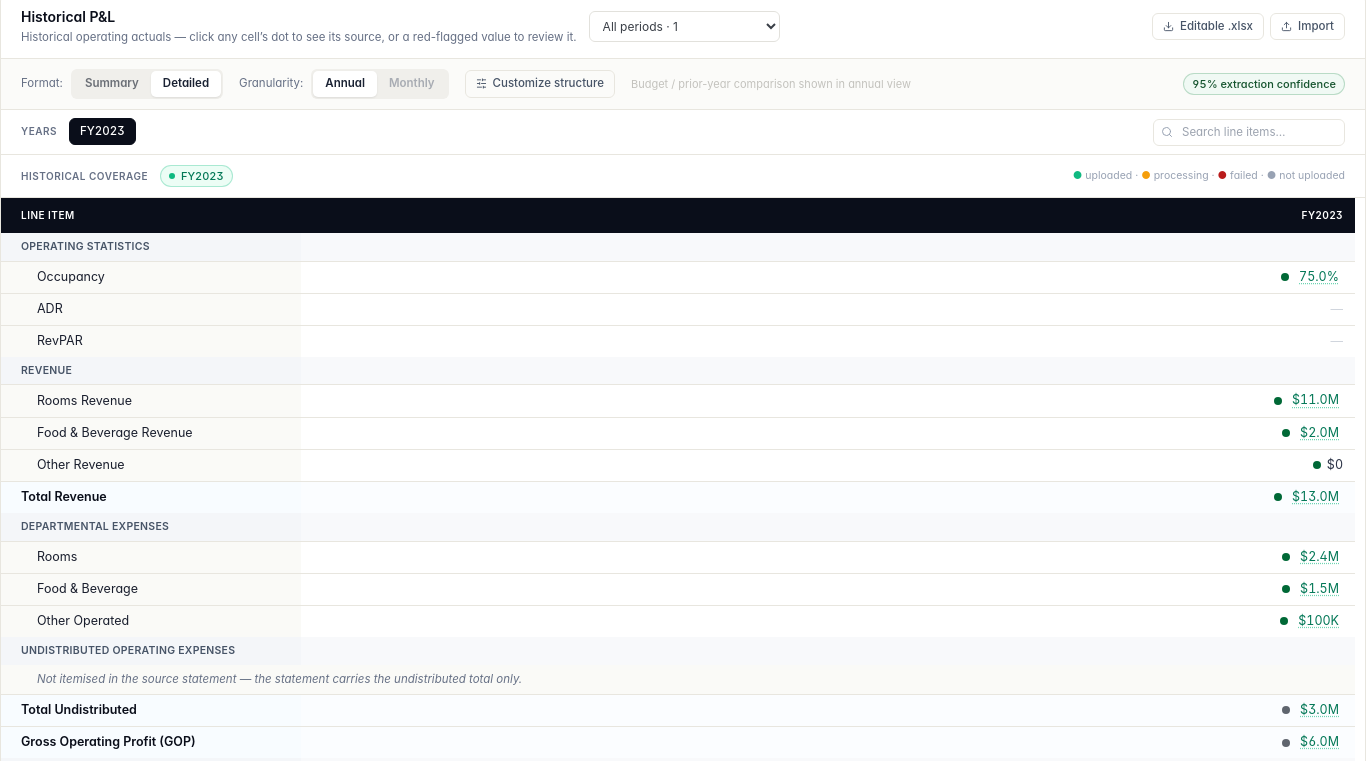
Historicals worksheet — a correction to a line with no derived total (E-012) › says no derived total re-sums from it, that GOP / NOI are stated, and that the model re-runs
Click the button named "Extracted — click to see its source". click: (1320, 557)
box: [1296,548,1343,566]
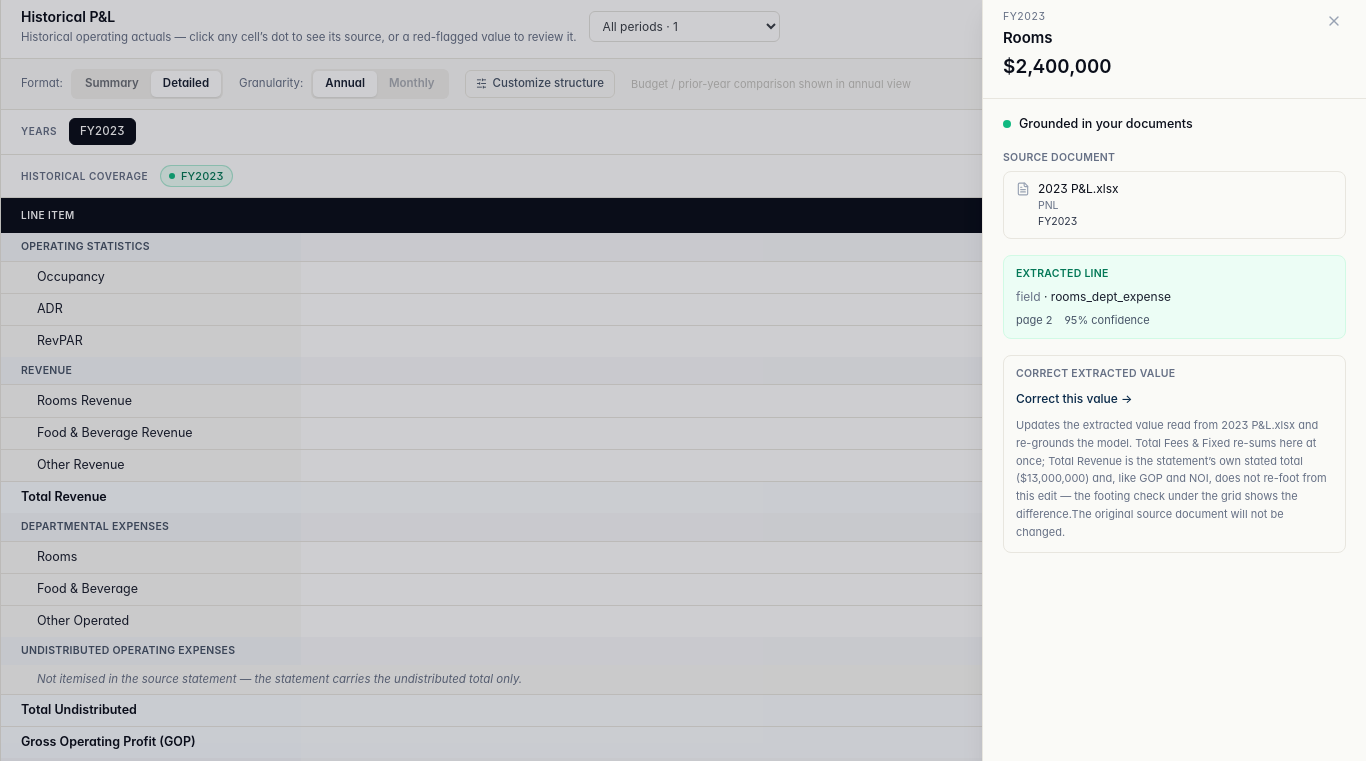
Click the button "Correct this value →". click: (1074, 399)
box: [1016,390,1132,408]
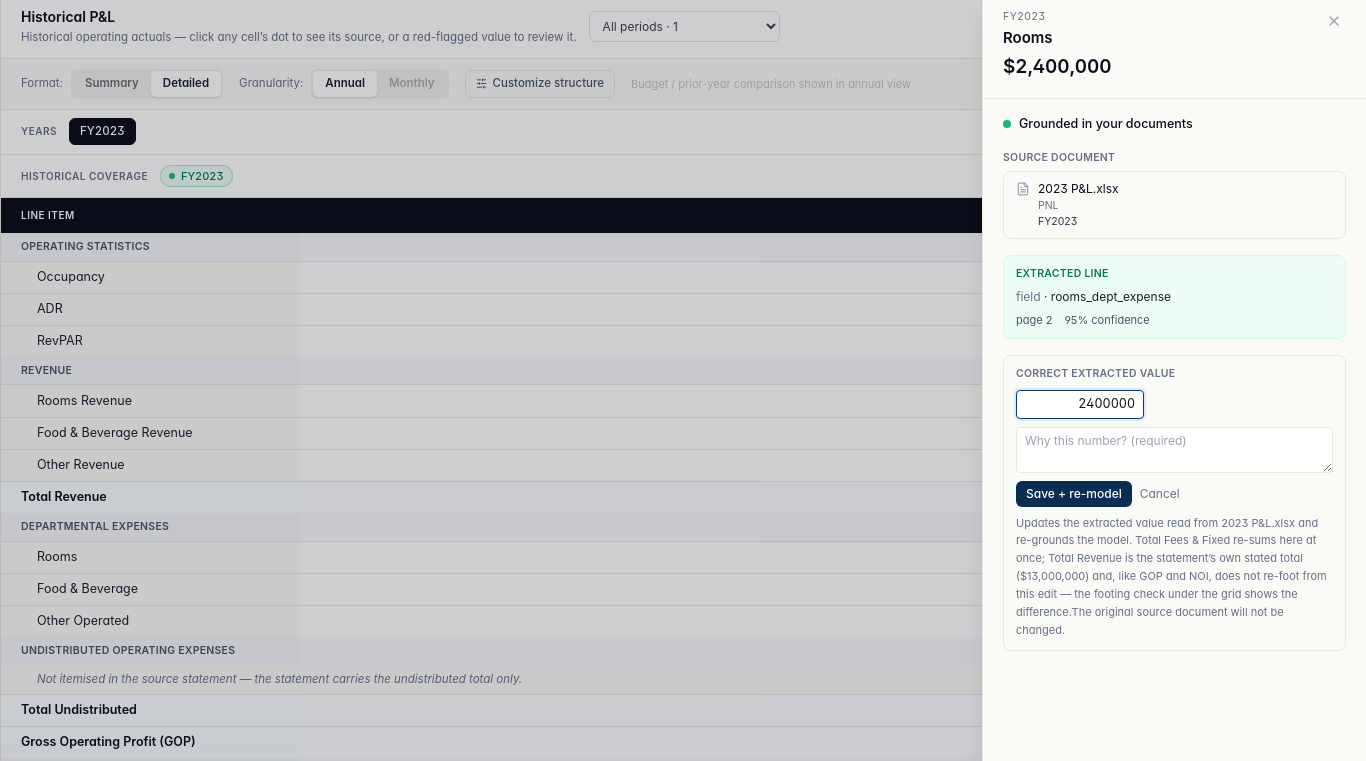
Replace the text in the field with "2400005". click: (1080, 404)
box: [1016,390,1144,419]
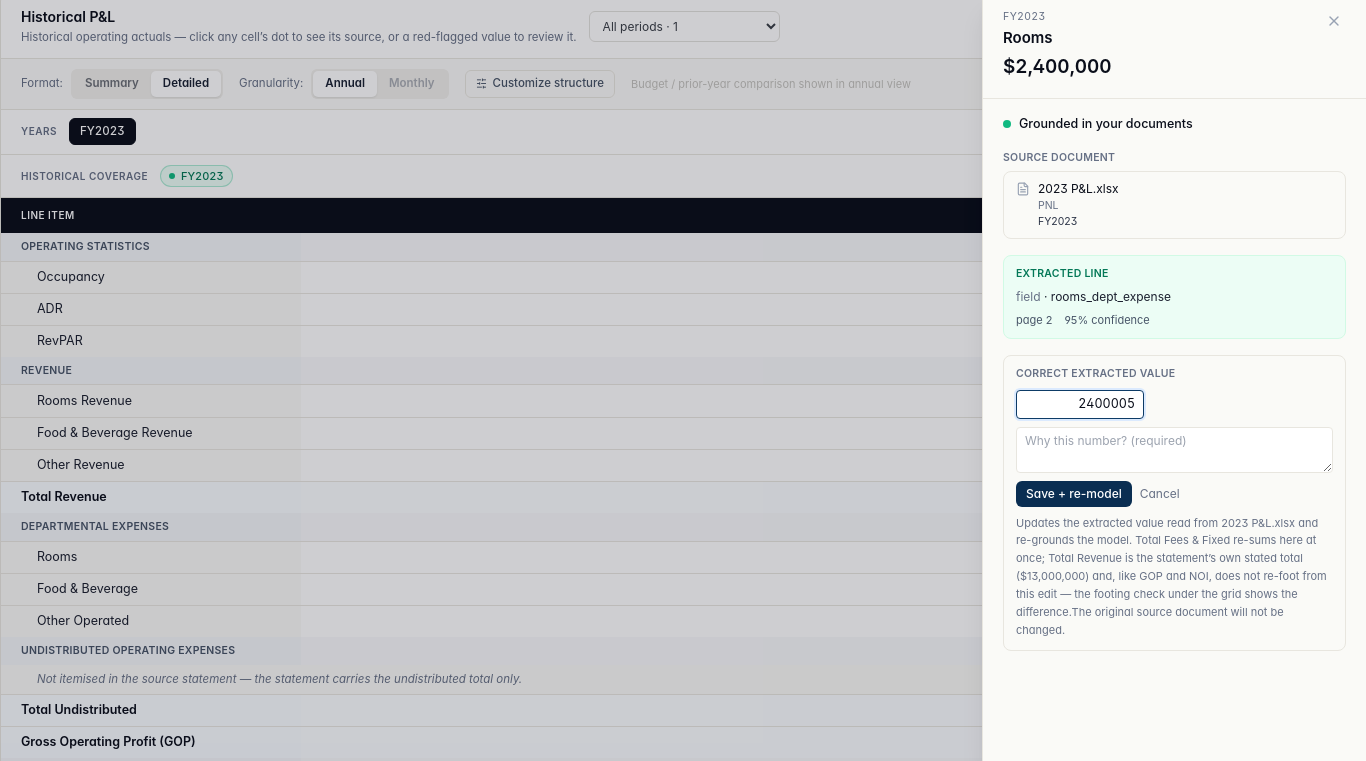
Type "Ledger shows the restated figure" into the text box with test id "field-correction-note". click: (1174, 450)
box: [1016,426,1333,472]
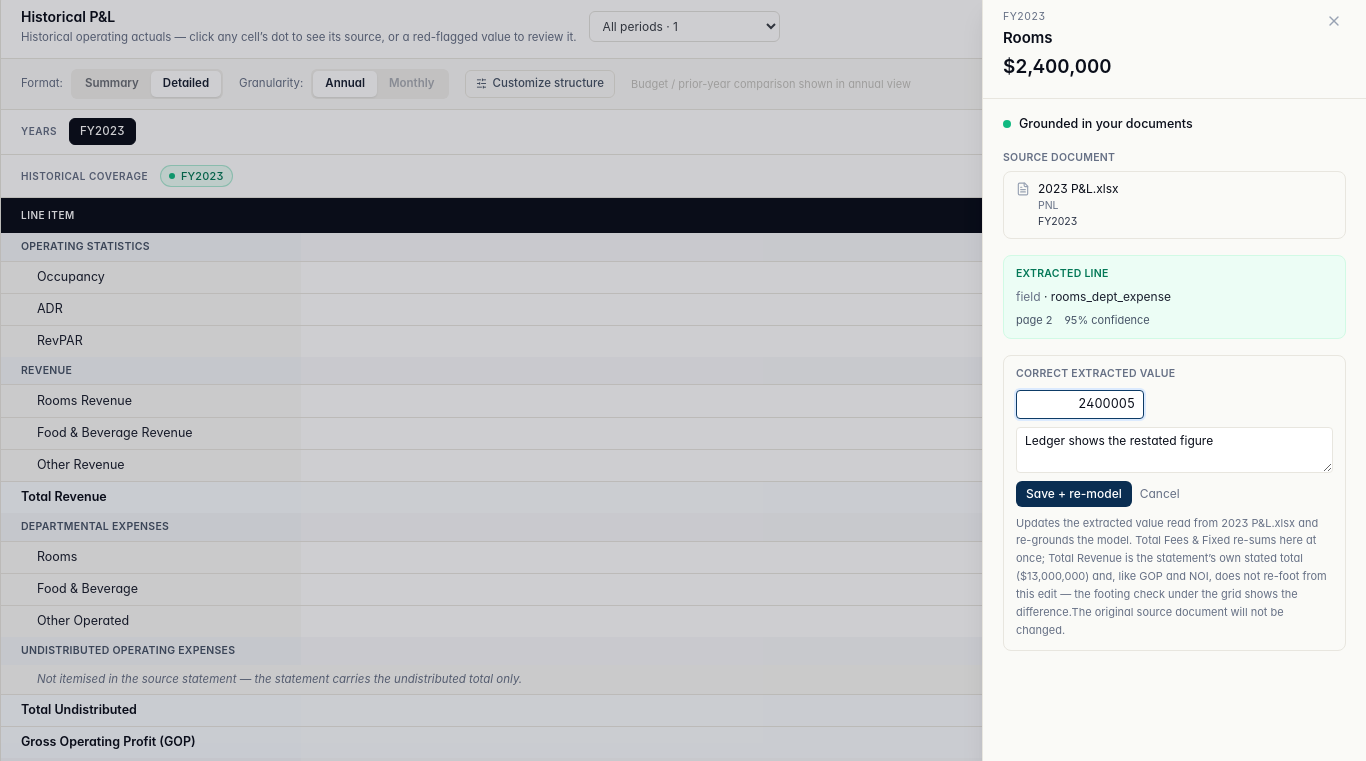
Click the button "Save + re-model". click: (1074, 494)
box: [1016,480,1132,506]
(page scrolled)
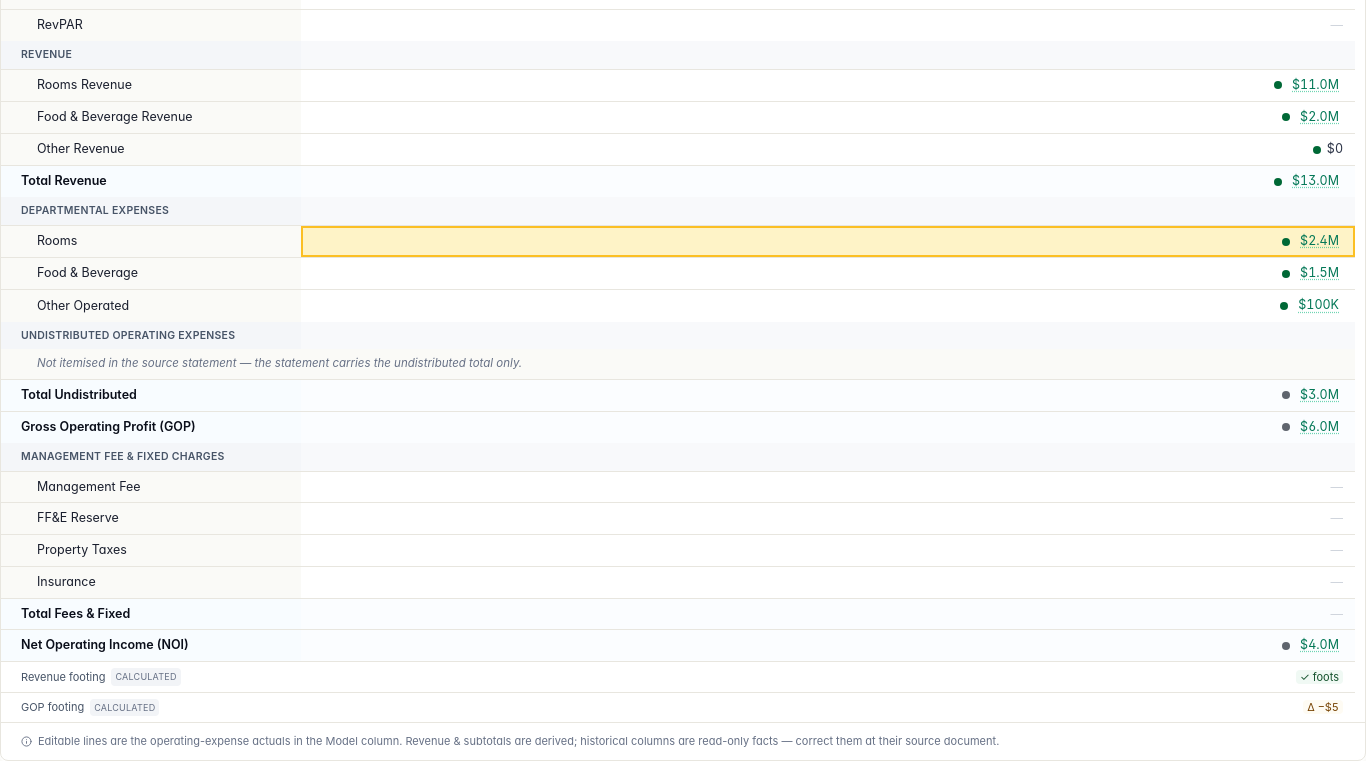
Result: the text "Δ −$5" is shown at [1303,700,1343,714]
